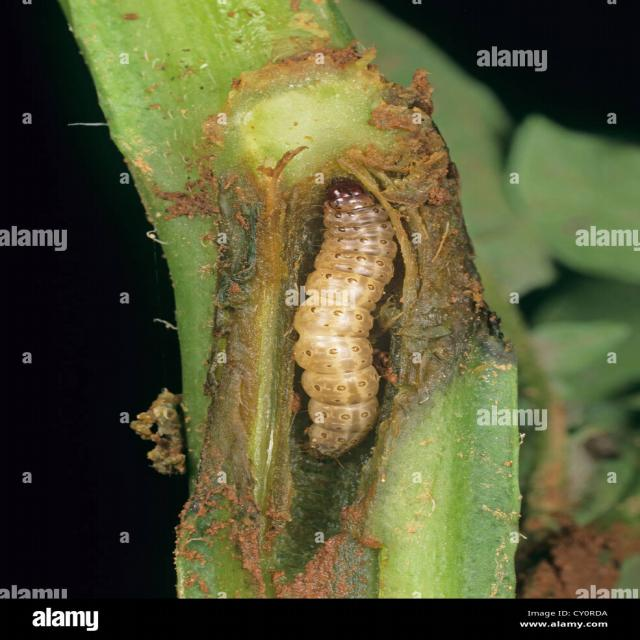cornborer-Larva-: (284, 169, 408, 455)
